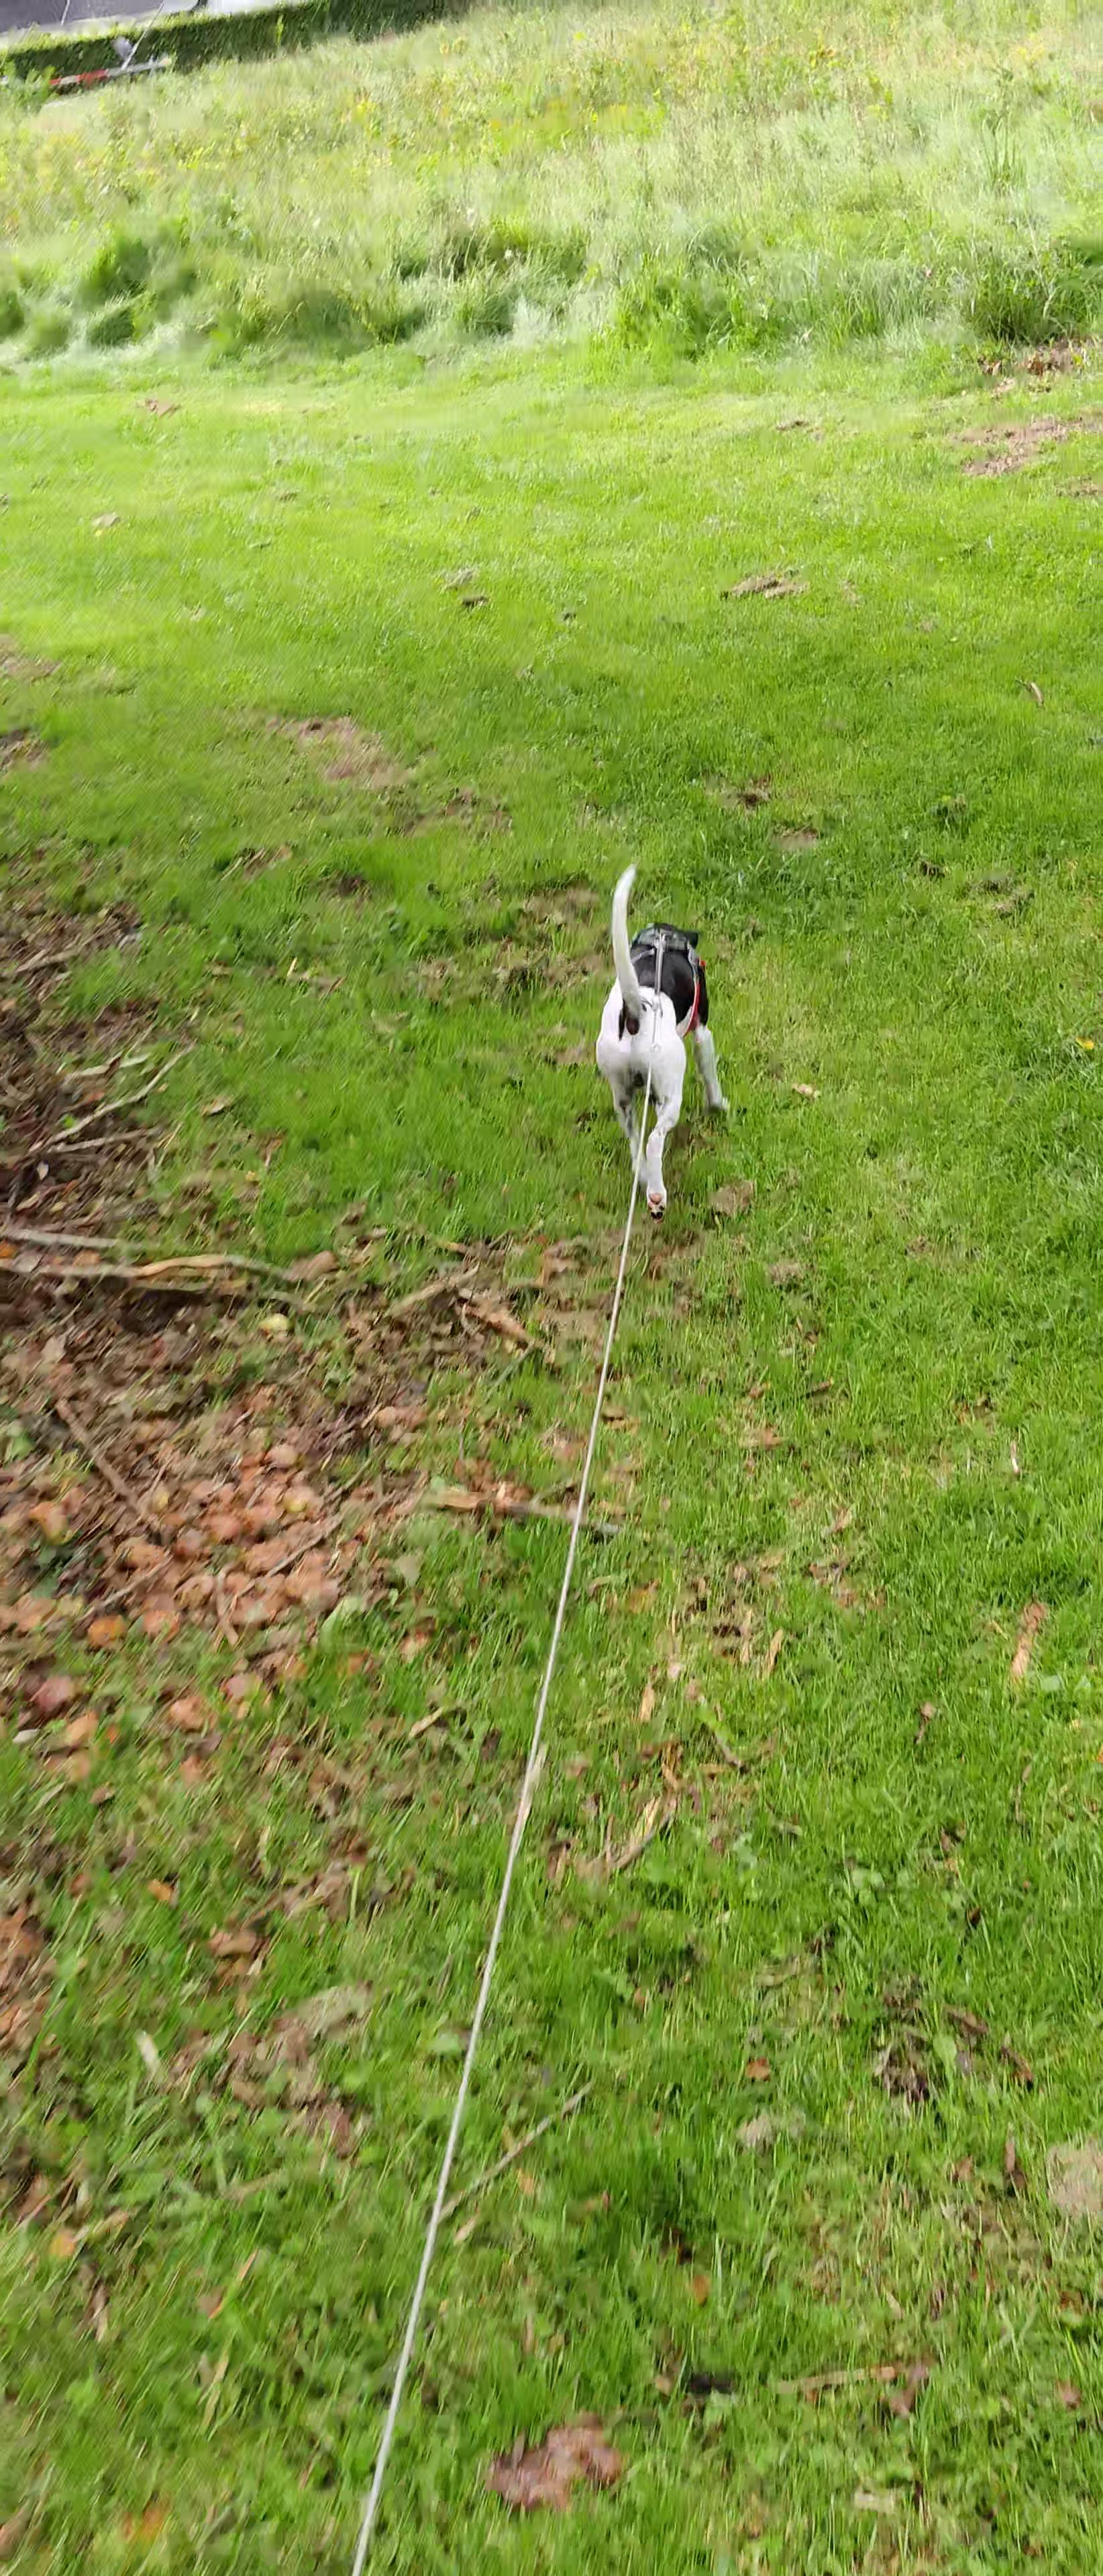Dog: (580, 856, 746, 1226)
